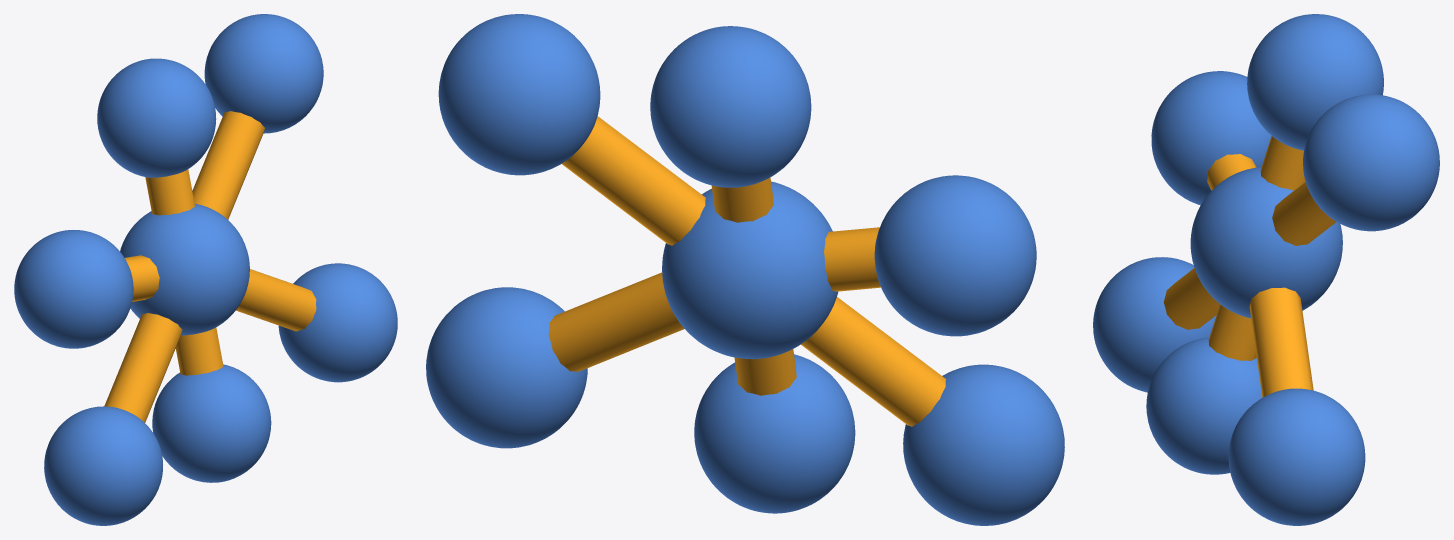
The model's file is network.glb.
3 views of the same model, side by side, from view 1: azimuth 30°, elevation 25°; view 2: azimuth 150°, elevation 25°; view 3: azimuth 270°, elevation 25° (orthographic). The views are drawn at different scales.
Visible parts, largest first — view 1: Sphere.005, Sphere.006, Sphere.009, Sphere.010, Sphere.008, Sphere.007, Sphere.011, NurbsPath, NurbsPath.001, NurbsPath.005, NurbsPath.002, NurbsPath.003 (+1 smaller); view 2: Sphere.005, Sphere.010, Sphere.007, Sphere.009, Sphere.006, Sphere.011, Sphere.008, NurbsPath, NurbsPath.001, NurbsPath.005, NurbsPath.004, NurbsPath.002 (+1 smaller); view 3: Sphere.011, Sphere.007, Sphere.005, Sphere.009, Sphere.008, Sphere.010, Sphere.006, NurbsPath.005, NurbsPath.001, NurbsPath, NurbsPath.002, NurbsPath.003 (+1 smaller).
Part boxes in pixels (left/top/right/bottom): Sphere.005: left=120, top=203, right=249, bottom=335; Sphere.006: left=44, top=406, right=162, bottom=525; Sphere.009: left=97, top=58, right=216, bottom=177; Sphere.010: left=14, top=230, right=133, bottom=348; Sphere.008: left=152, top=364, right=271, bottom=482; Sphere.007: left=204, top=14, right=323, bottom=133; Sphere.011: left=278, top=263, right=397, bottom=382; NurbsPath: left=104, top=313, right=182, bottom=422; NurbsPath.001: left=192, top=111, right=264, bottom=219; NurbsPath.005: left=236, top=269, right=316, bottom=331; NurbsPath.002: left=175, top=327, right=223, bottom=375; NurbsPath.003: left=145, top=169, right=194, bottom=215; Sphere.005: left=662, top=181, right=838, bottom=359; Sphere.010: left=874, top=175, right=1036, bottom=336; Sphere.007: left=438, top=14, right=600, bottom=175; Sphere.009: left=650, top=26, right=811, bottom=187; Sphere.006: left=903, top=364, right=1064, bottom=525; Sphere.011: left=426, top=287, right=587, bottom=448; Sphere.008: left=694, top=354, right=855, bottom=513; NurbsPath: left=801, top=297, right=945, bottom=426; NurbsPath.001: left=562, top=116, right=705, bottom=245; NurbsPath.005: left=548, top=272, right=684, bottom=371; NurbsPath.004: left=824, top=227, right=880, bottom=291; NurbsPath.002: left=734, top=349, right=796, bottom=395; Sphere.011: left=1228, top=388, right=1365, bottom=525; Sphere.007: left=1303, top=94, right=1439, bottom=231; Sphere.005: left=1190, top=167, right=1342, bottom=318; Sphere.009: left=1247, top=14, right=1383, bottom=150; Sphere.008: left=1146, top=337, right=1262, bottom=474; Sphere.010: left=1151, top=71, right=1271, bottom=205; Sphere.006: left=1093, top=257, right=1216, bottom=392; NurbsPath.005: left=1249, top=287, right=1313, bottom=397; NurbsPath.001: left=1272, top=182, right=1336, bottom=245; NurbsPath: left=1163, top=268, right=1219, bottom=329; NurbsPath.002: left=1208, top=304, right=1256, bottom=360; NurbsPath.003: left=1260, top=136, right=1305, bottom=190.
Size of the model in its own units: 2.15 by 1.96 by 1.4.
